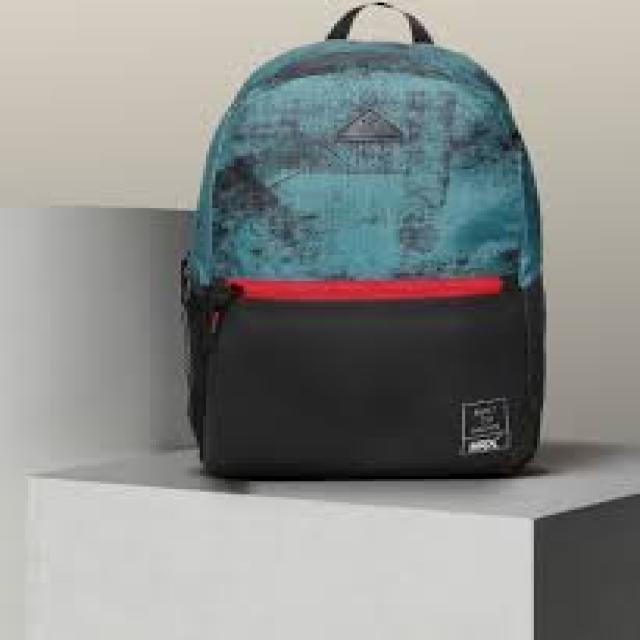backpack: (179, 2, 547, 480)
